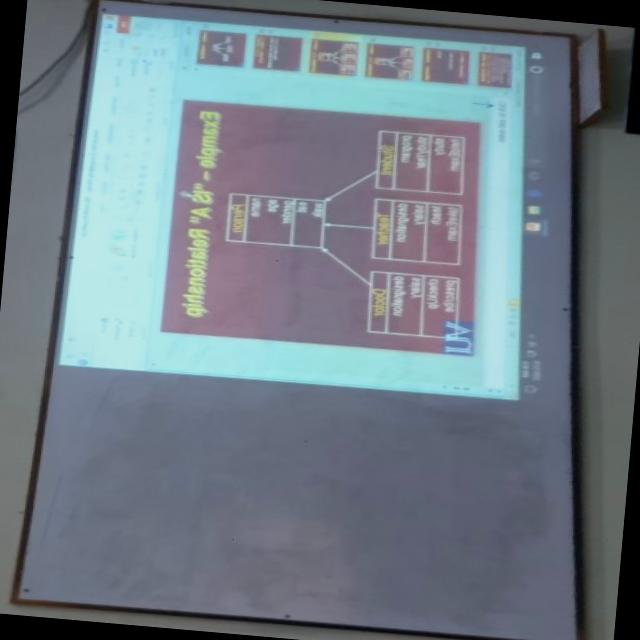Slide: (54, 11, 567, 405)
White-board: (18, 0, 587, 640)
